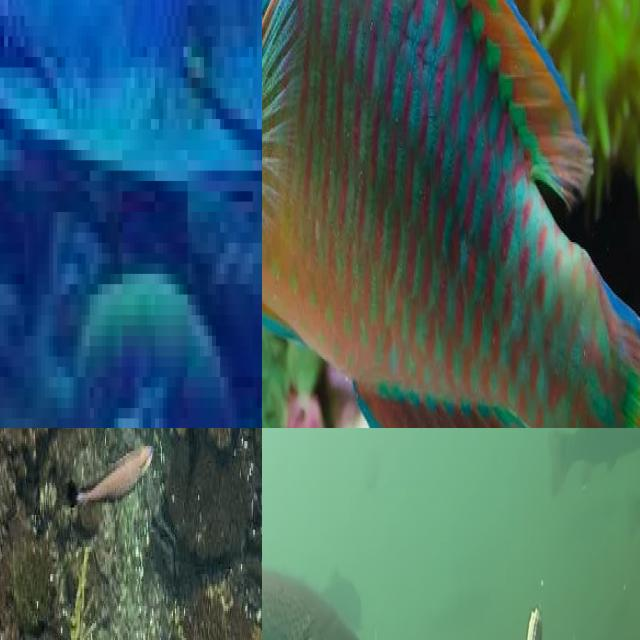fish: (0, 0, 262, 428), (262, 0, 528, 366), (262, 428, 640, 640)
